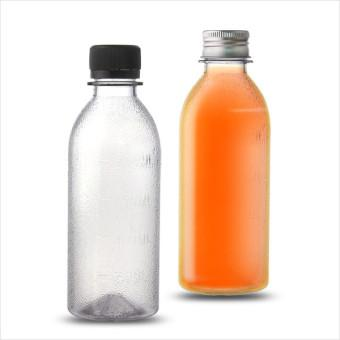bottle: (66, 46, 159, 320), (179, 30, 269, 295)
